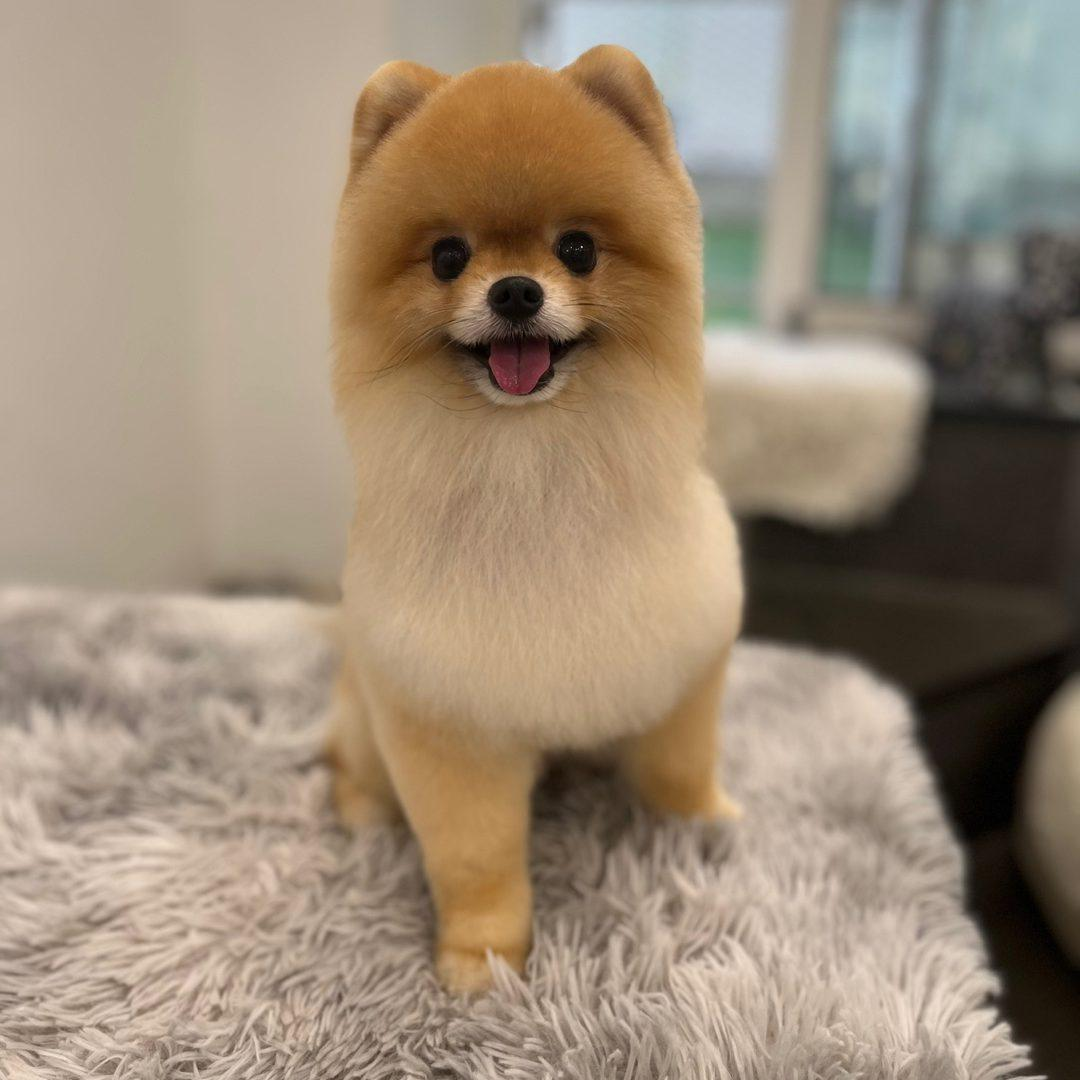dog: (327, 45, 767, 973)
